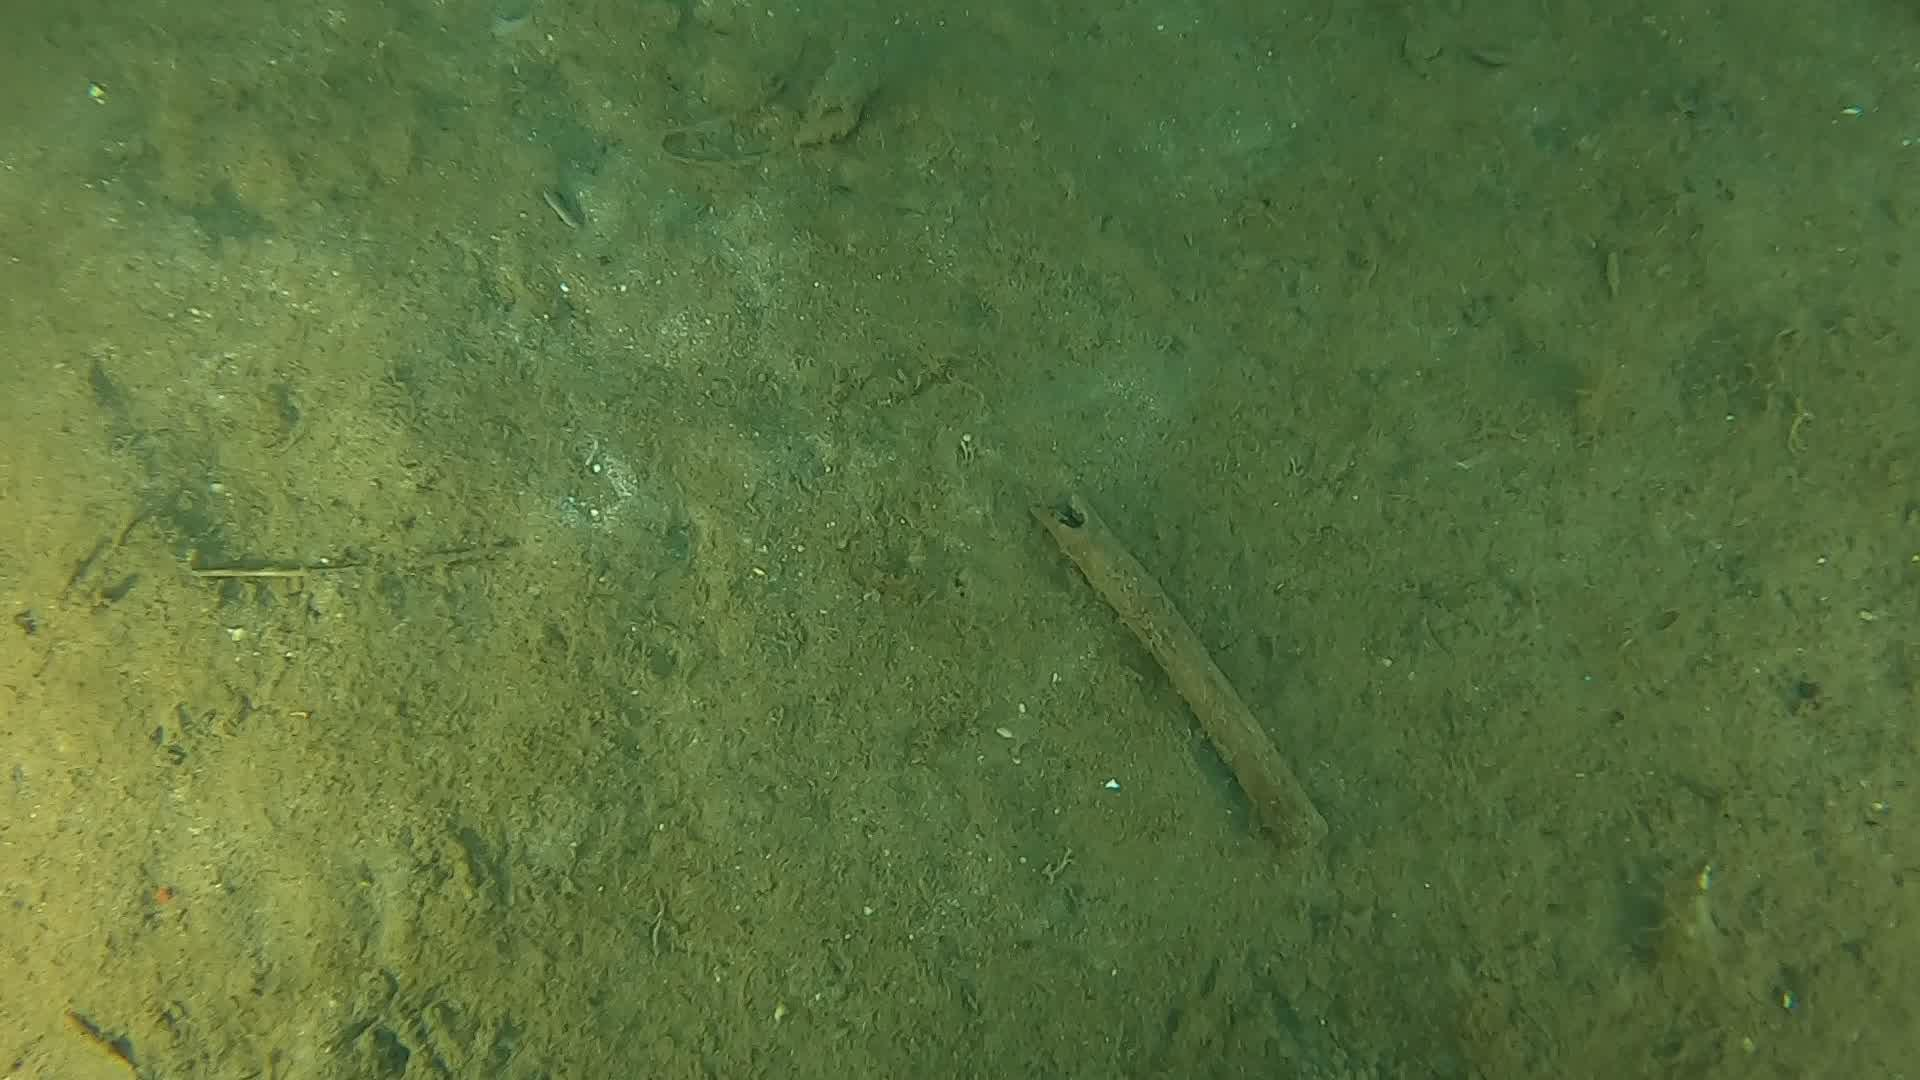wood: (1027, 488, 1329, 856)
